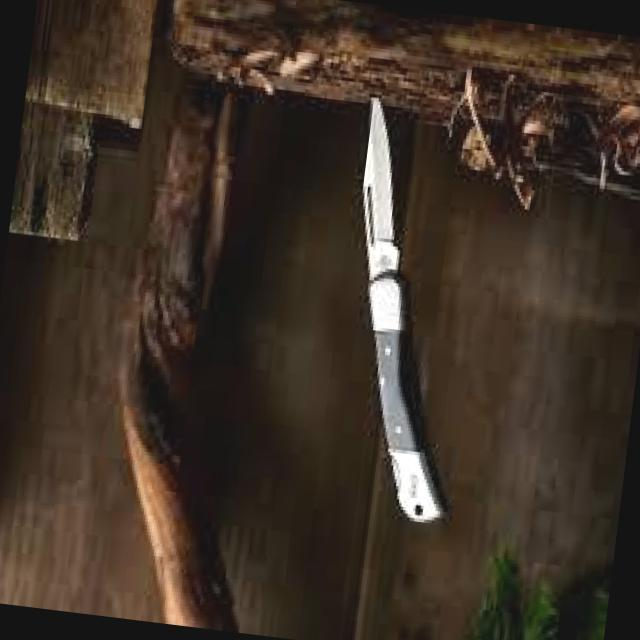Knife: (298, 87, 500, 542)
